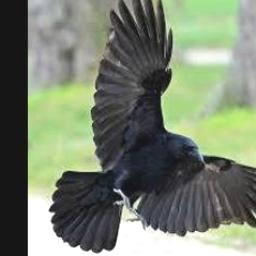Crow: (49, 0, 256, 252)
